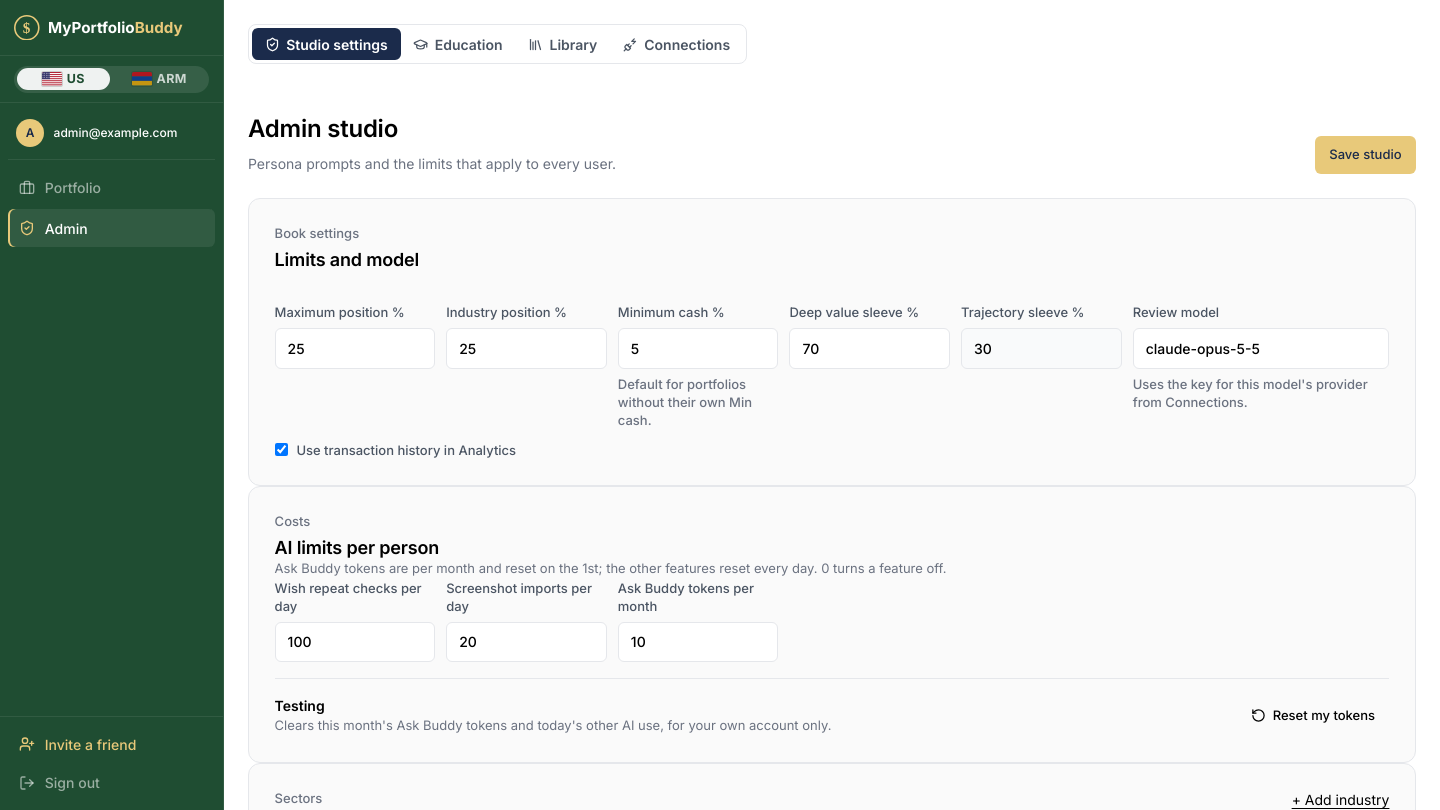
AdminPanel industry catalog › keeps the affiliate tag in the Library section, out of the studio save
expect the field labelled "Amazon affiliate tag" is not shown: met
What coordinates should you click on to do the following:
click the button "Save studio"
I would click on:
 (1365, 155)
Its box is [1315,136,1416,174].
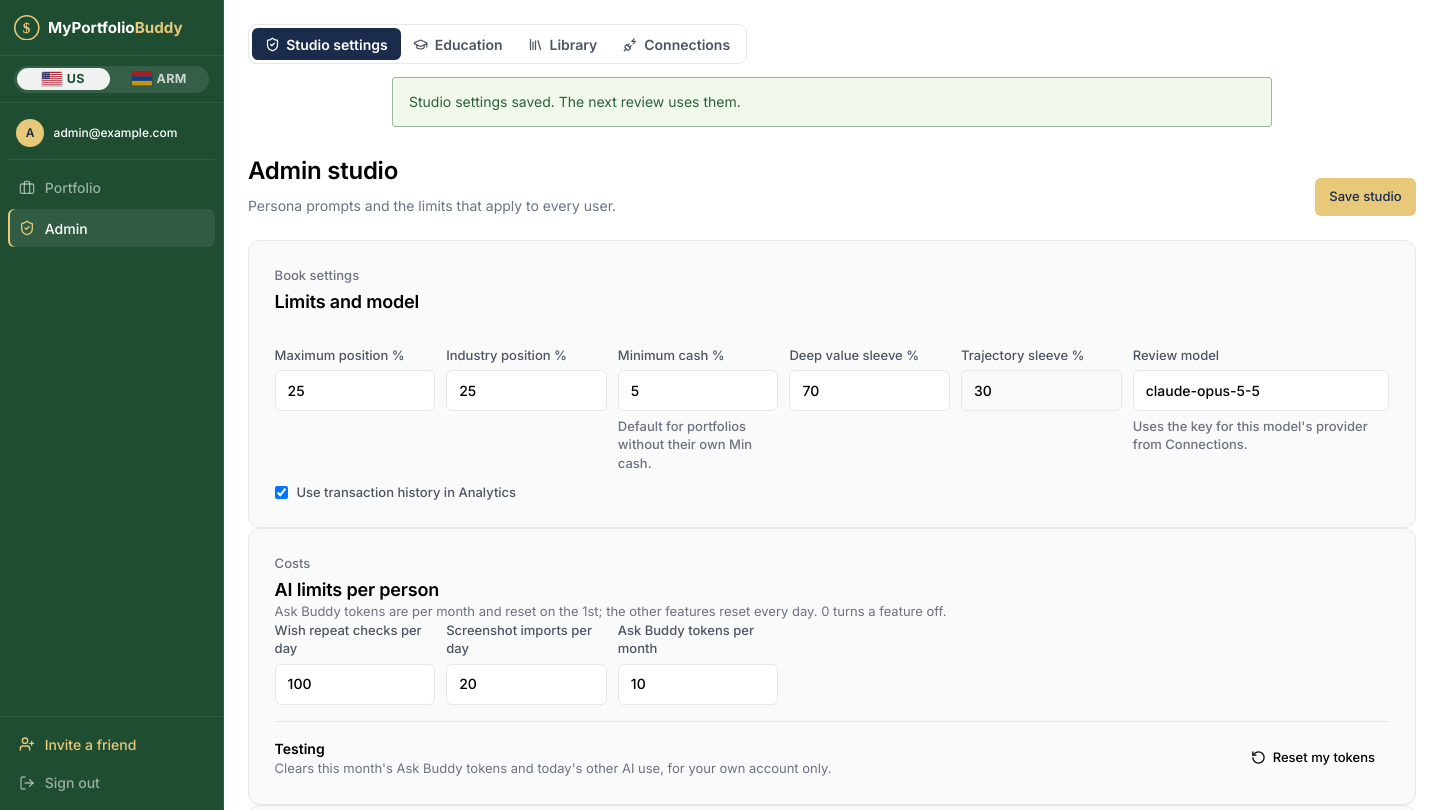
What coordinates should you click on to do the following:
click the button "Library"
I would click on:
 (563, 44)
Its box is [515,28,610,60].
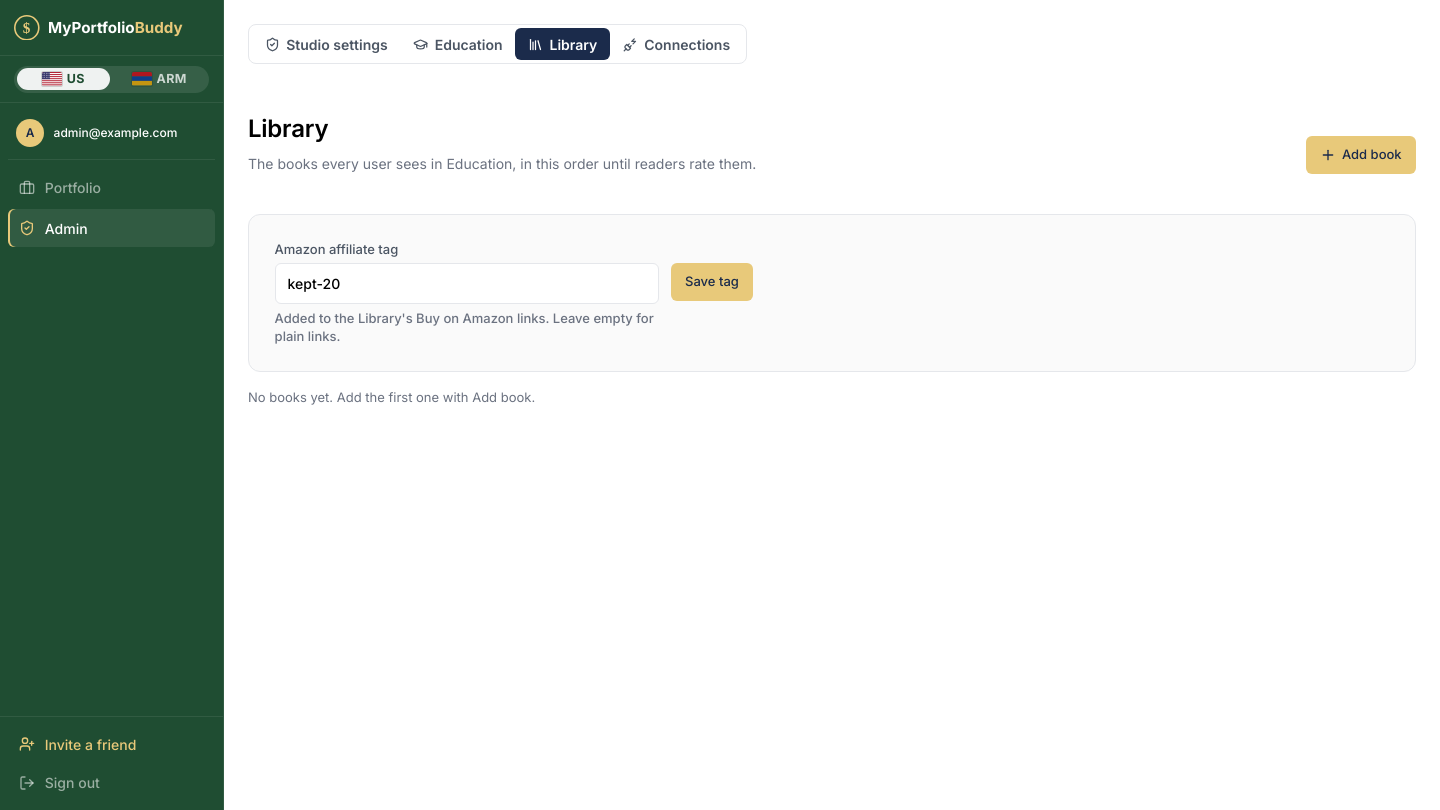
expect the field labelled "Amazon affiliate tag" holds "kept-20": met, box [275,263,659,304]
